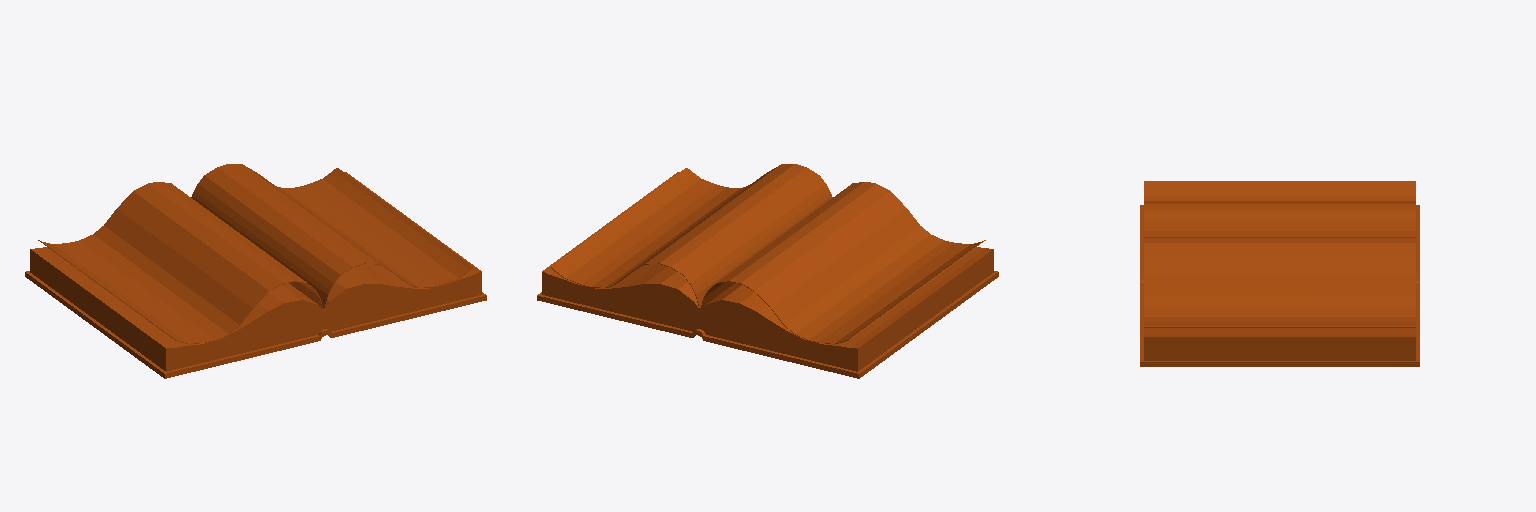
Rendered from Book_open.obj.
3 views of the same model, side by side, from view 1: azimuth 30°, elevation 25°; view 2: azimuth 150°, elevation 25°; view 3: azimuth 270°, elevation 25° (orthographic).
Parts seen in each view (by area): view 1: Book_Open; view 2: Book_Open; view 3: Book_Open.
Part boxes in pixels (x1,y1,x2,y2): Book_Open: (25,164,486,378); Book_Open: (537,164,998,378); Book_Open: (1140,181,1419,366).
Bounding box in the file's own units: 0.3534 × 0.0681 × 0.2656.